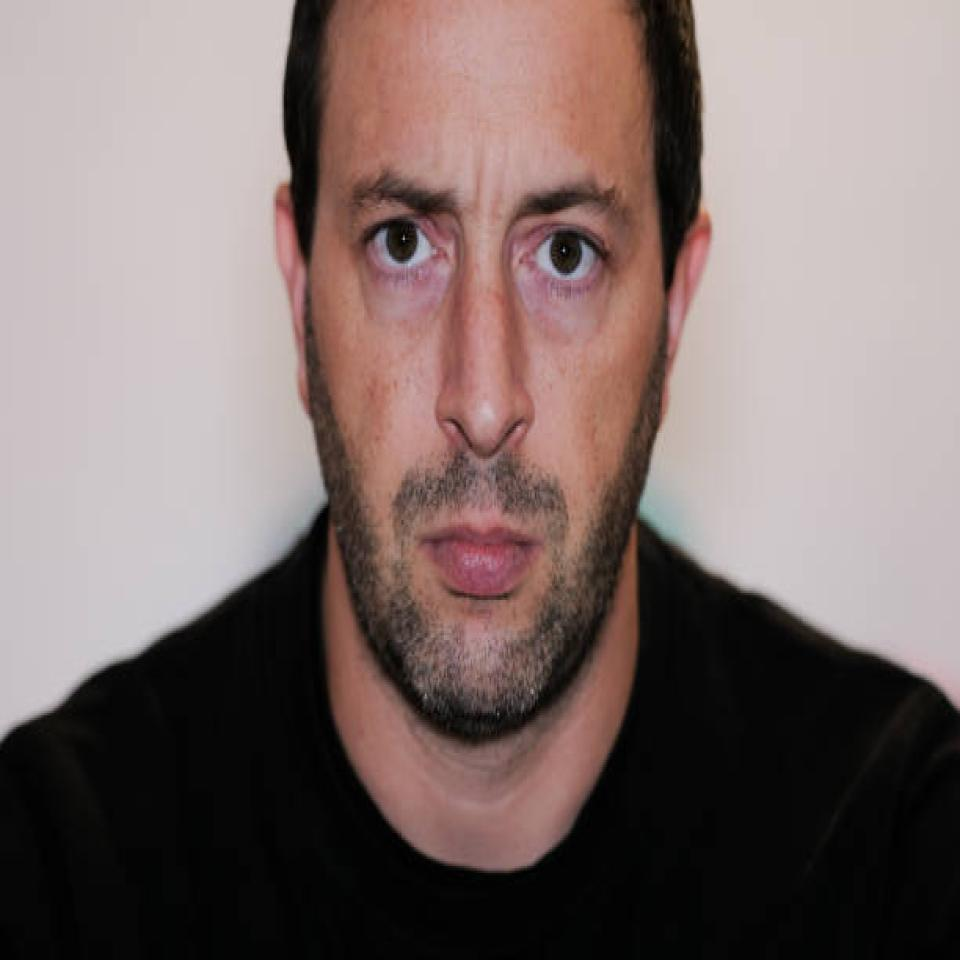Sadness: (277, 83, 680, 727)
